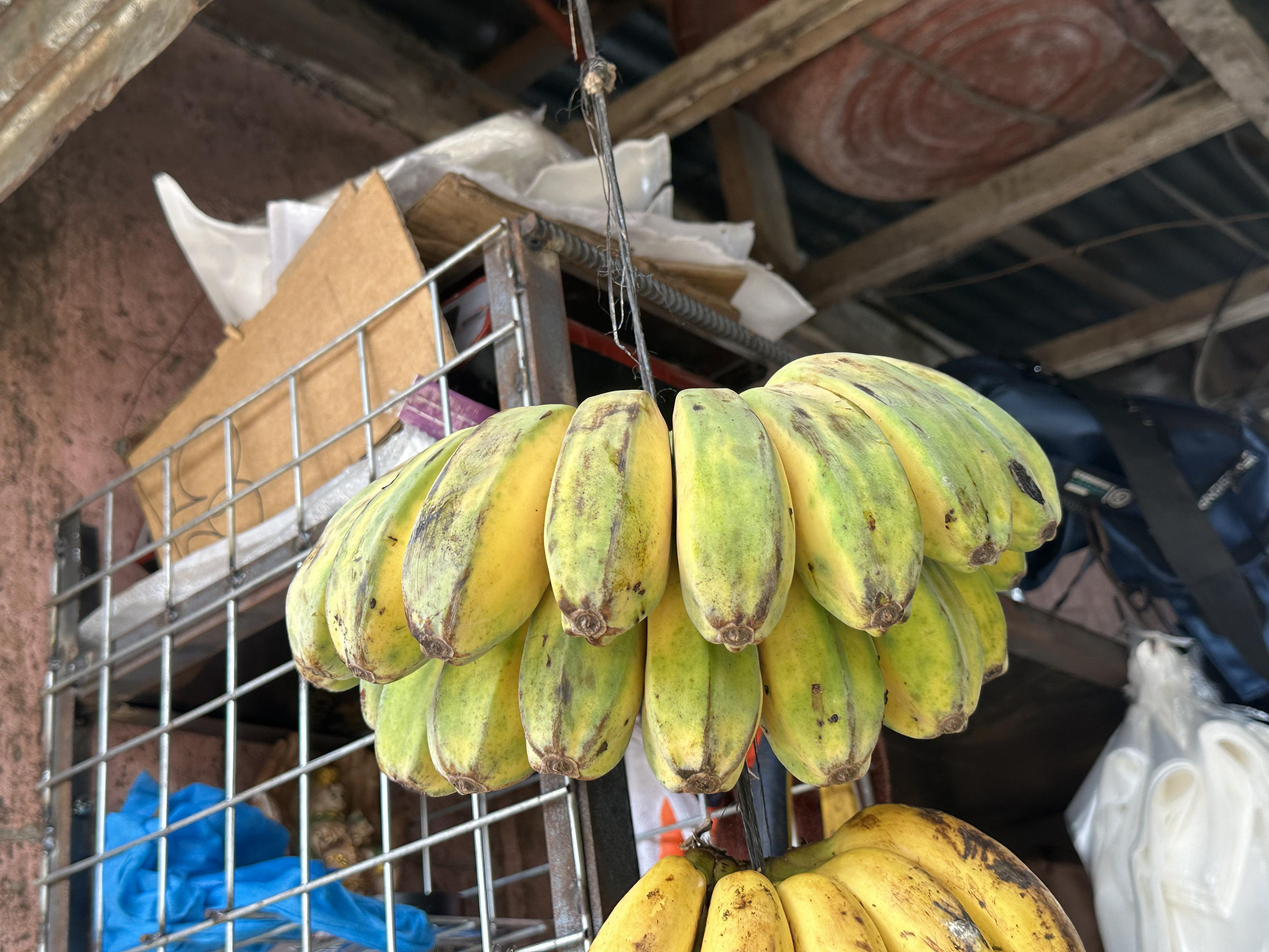underripe: (287, 352, 1061, 799)
